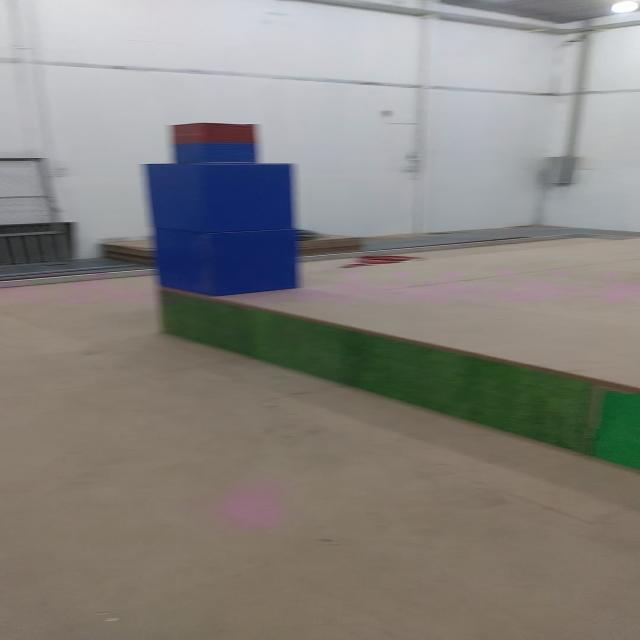earth_block: (148, 231, 311, 297), (146, 164, 296, 232)
sky_block: (167, 122, 261, 165)
